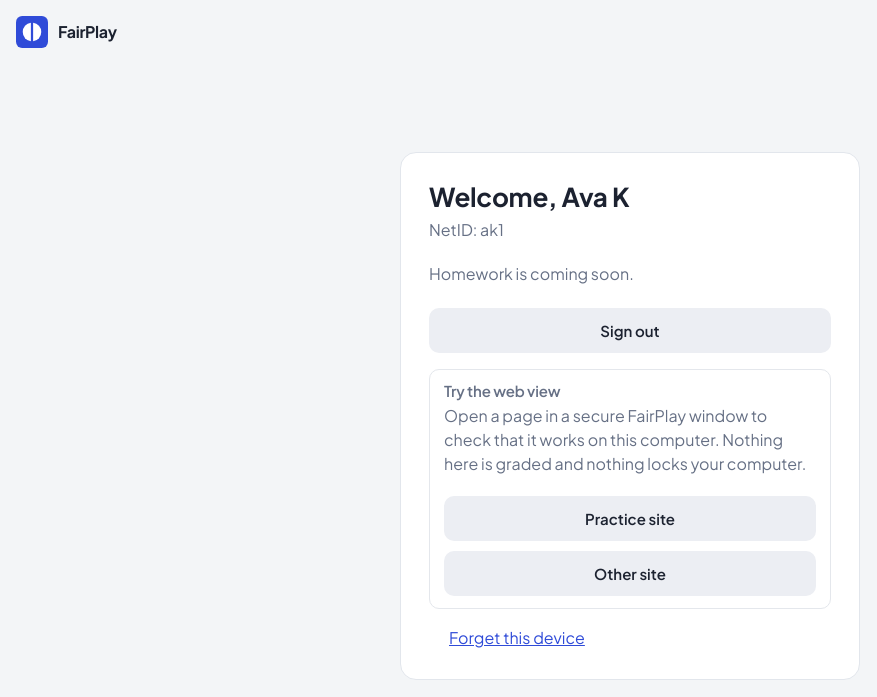
web view test section › sends exactly the server payload through the bridge and disables buttons while open
Click the button "Practice site".
click(630, 519)  # box [444,496,816,542]
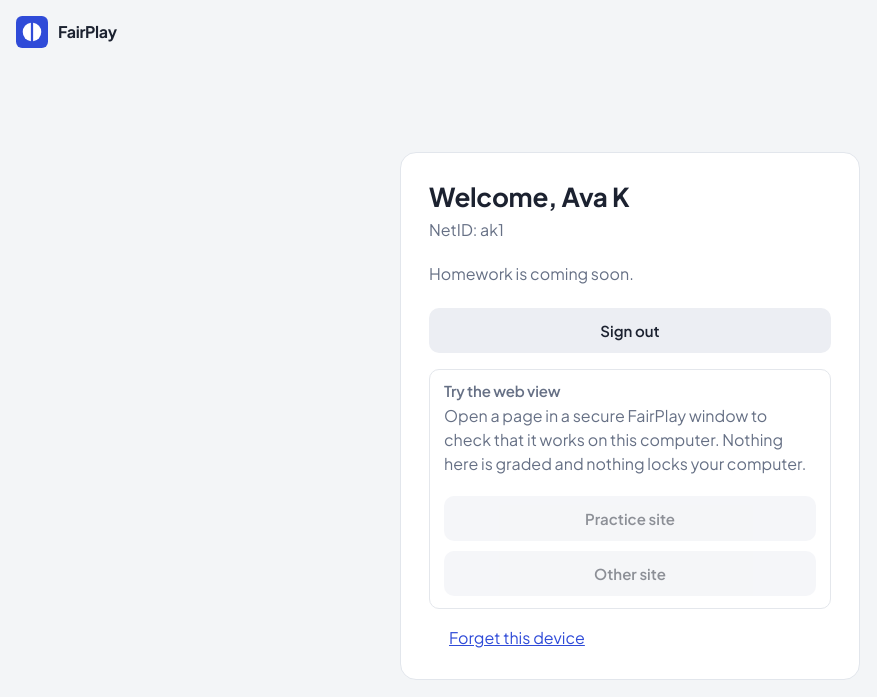
Check: the button "Practice site" is disabled, box [444,496,816,542]
Check: the button "Other site" is disabled, box [444,552,816,596]
